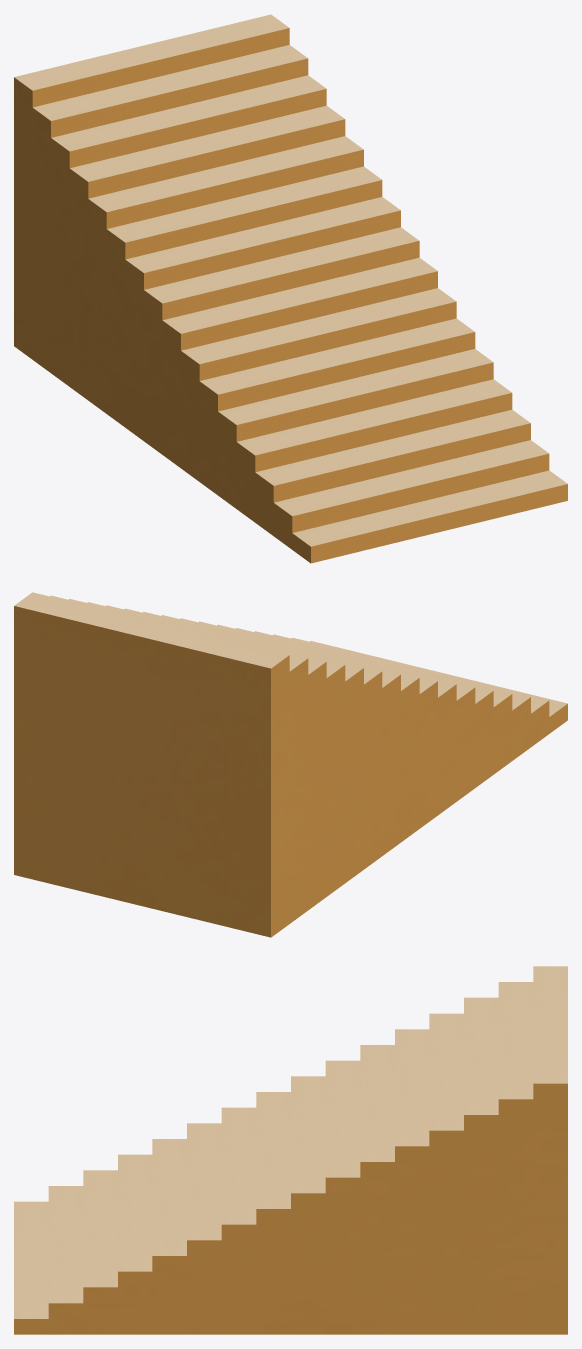
File: rc_wa_stairs_4x8x4.glb
The picture shows the model from 3 angles, top to bottom: view 1: azimuth 30°, elevation 25°; view 2: azimuth 150°, elevation 25°; view 3: azimuth 270°, elevation 25°; orthographic projection. The views are drawn at different scales.
Parts seen in each view (by area): view 1: SM_RC_WA_Stairs_4x8x4; view 2: SM_RC_WA_Stairs_4x8x4; view 3: SM_RC_WA_Stairs_4x8x4.
Boxes of the visible parts, left/top/right/bottom form: SM_RC_WA_Stairs_4x8x4: left=14, top=14, right=567, bottom=563; SM_RC_WA_Stairs_4x8x4: left=14, top=592, right=567, bottom=937; SM_RC_WA_Stairs_4x8x4: left=14, top=966, right=567, bottom=1334.
Bounding box in the file's own units: 4 × 4 × 8.
Materials: 1 (1 with a texture image).
